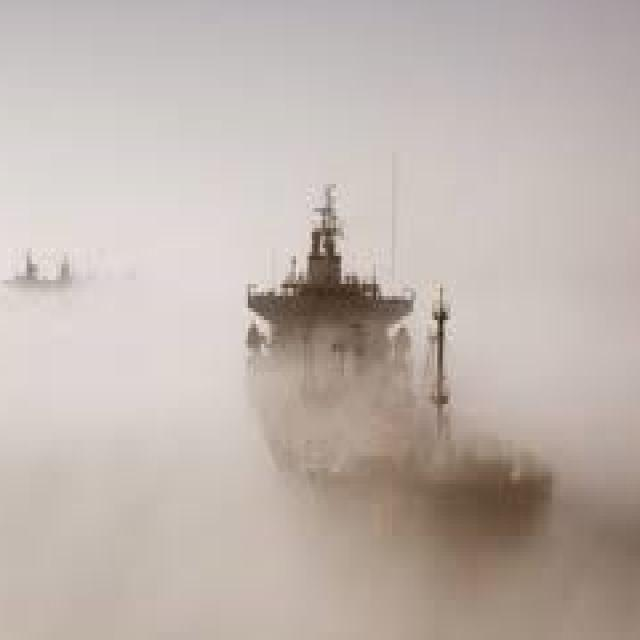cargoship: (234, 187, 546, 586), (5, 238, 141, 313)
